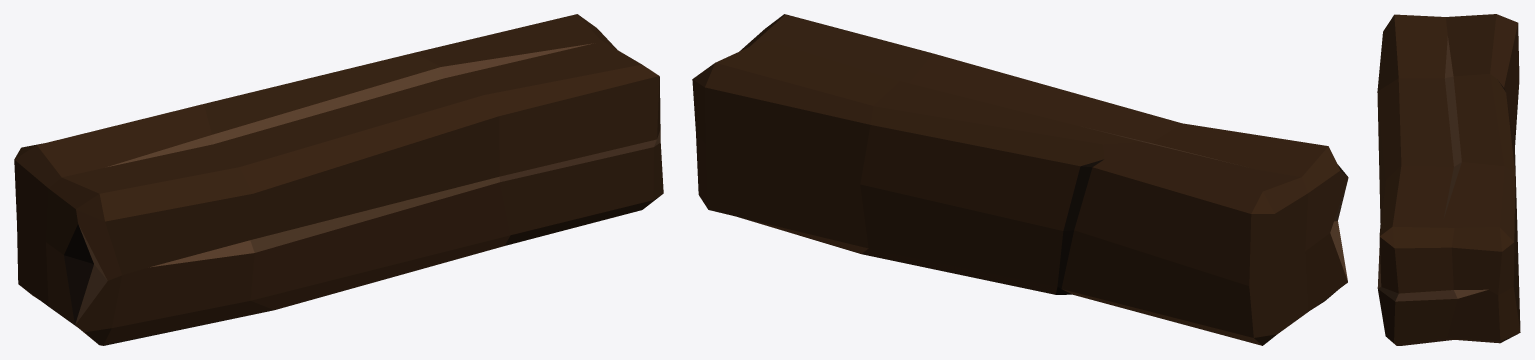
The model's file is Column_Wood_1M.glb.
3 renders of one model, left to right at view 1: azimuth 30°, elevation 25°; view 2: azimuth 150°, elevation 25°; view 3: azimuth 270°, elevation 25°, orthographic. The views are drawn at different scales.
Visible parts, largest first — view 1: Column_Wood_1M; view 2: Column_Wood_1M; view 3: Column_Wood_1M.
Part boxes in pixels (left/top/right/bottom): Column_Wood_1M: left=14, top=14, right=663, bottom=345; Column_Wood_1M: left=692, top=14, right=1348, bottom=345; Column_Wood_1M: left=1377, top=14, right=1520, bottom=345.
Size of what is drawn, in the model's own units: 1.02 by 0.271 by 0.2702.
Materials: 1 (1 with a texture image).
